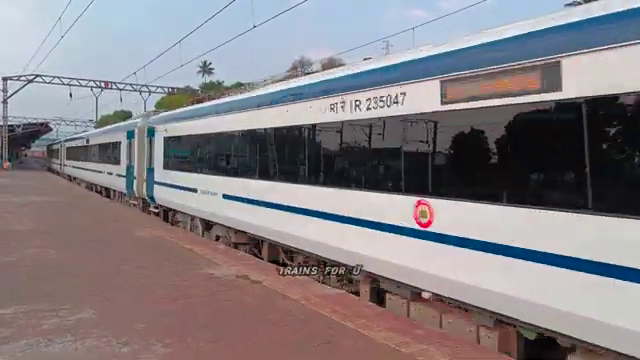Boogie: (349, 84, 416, 114)
